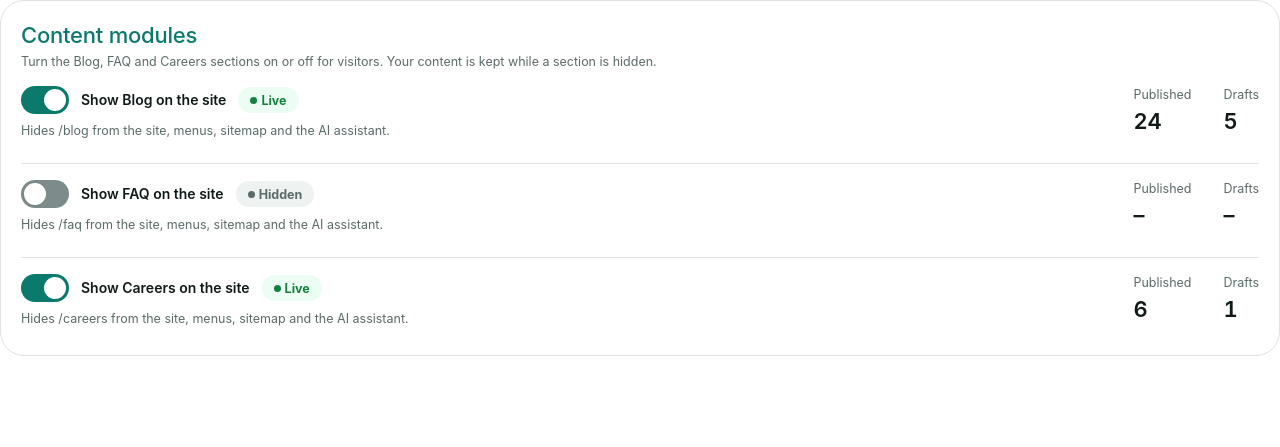
the Content modules card, connected (ADR-143) › says so when the save itself throws
The image size is (1280, 447).
Click the switch named "Show FAQ on the site" next to "Show FAQ on the site": (45, 194) [21, 180, 69, 208]
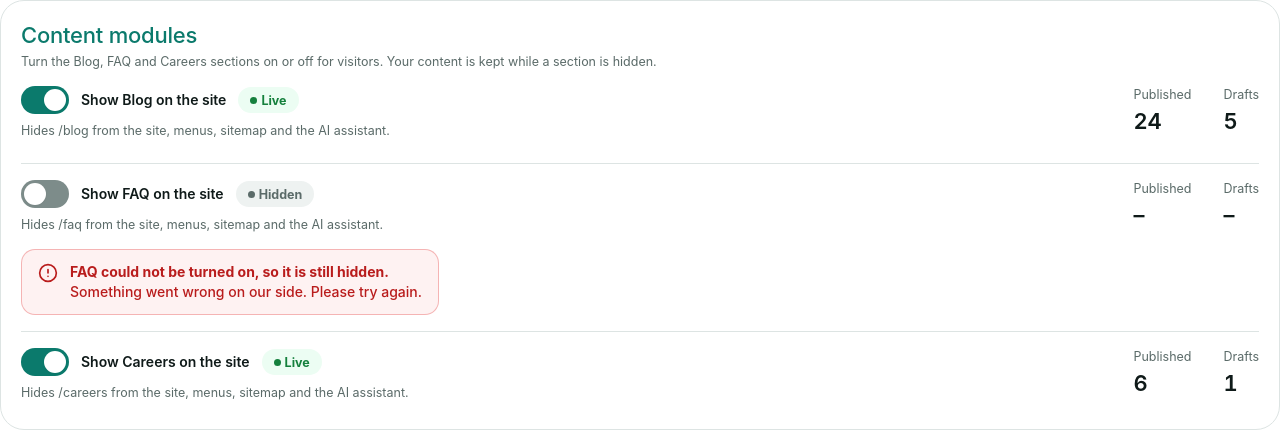
Expected: the text "Something went wrong on our side. Please try again." is shown, [70, 282, 422, 302]
